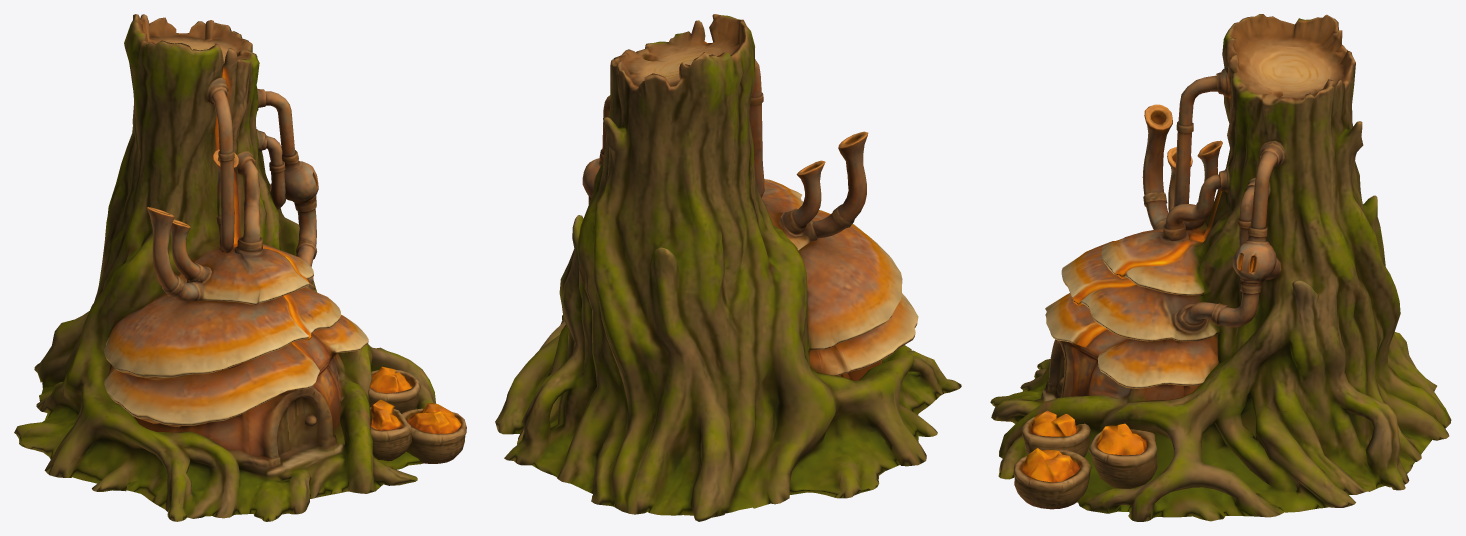
The model's file is resin-refinery.glb.
3 views of the same model, side by side, from view 1: azimuth 30°, elevation 25°; view 2: azimuth 150°, elevation 25°; view 3: azimuth 270°, elevation 25° (orthographic). The views are drawn at different scales.
Parts seen in each view (by area): view 1: geometry_0; view 2: geometry_0; view 3: geometry_0.
Boxes of the visible parts, <box> form: geometry_0: <box>14,14,466,521</box>; geometry_0: <box>495,14,961,521</box>; geometry_0: <box>990,14,1451,521</box>.
Size of the model in its own units: 0.8896 by 0.9146 by 0.9546.
1 material, 1 textured.
